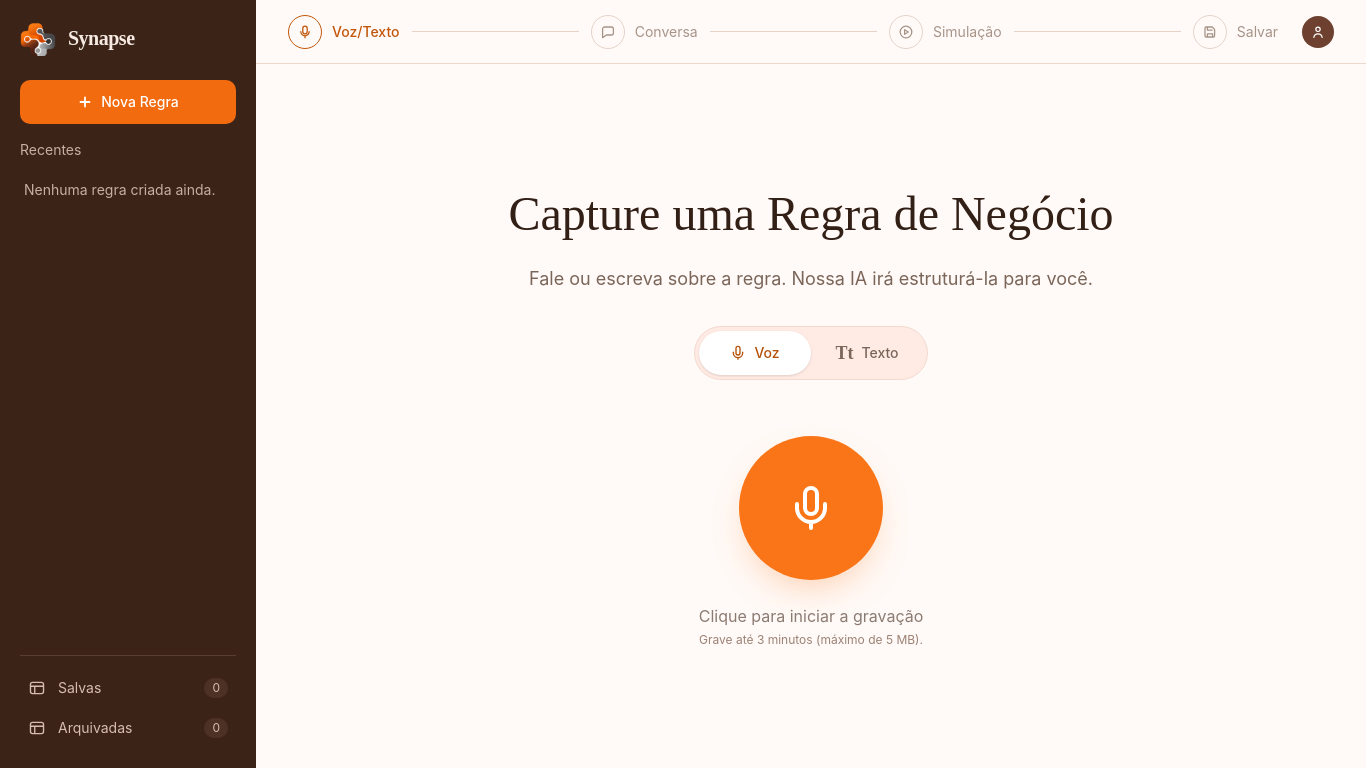
Scenario: entrada da regra › alterna texto e voz sem gravar ou enviar e conserva o texto apenas na tela
Expected: the button named "Iniciar gravação" is enabled, [739,436,883,580]
Expected: the list item "Voz/Texto" is shown, [288,14,400,48]
Click the button "Tt Texto" at coordinates (867, 353), box [811,331,923,375]
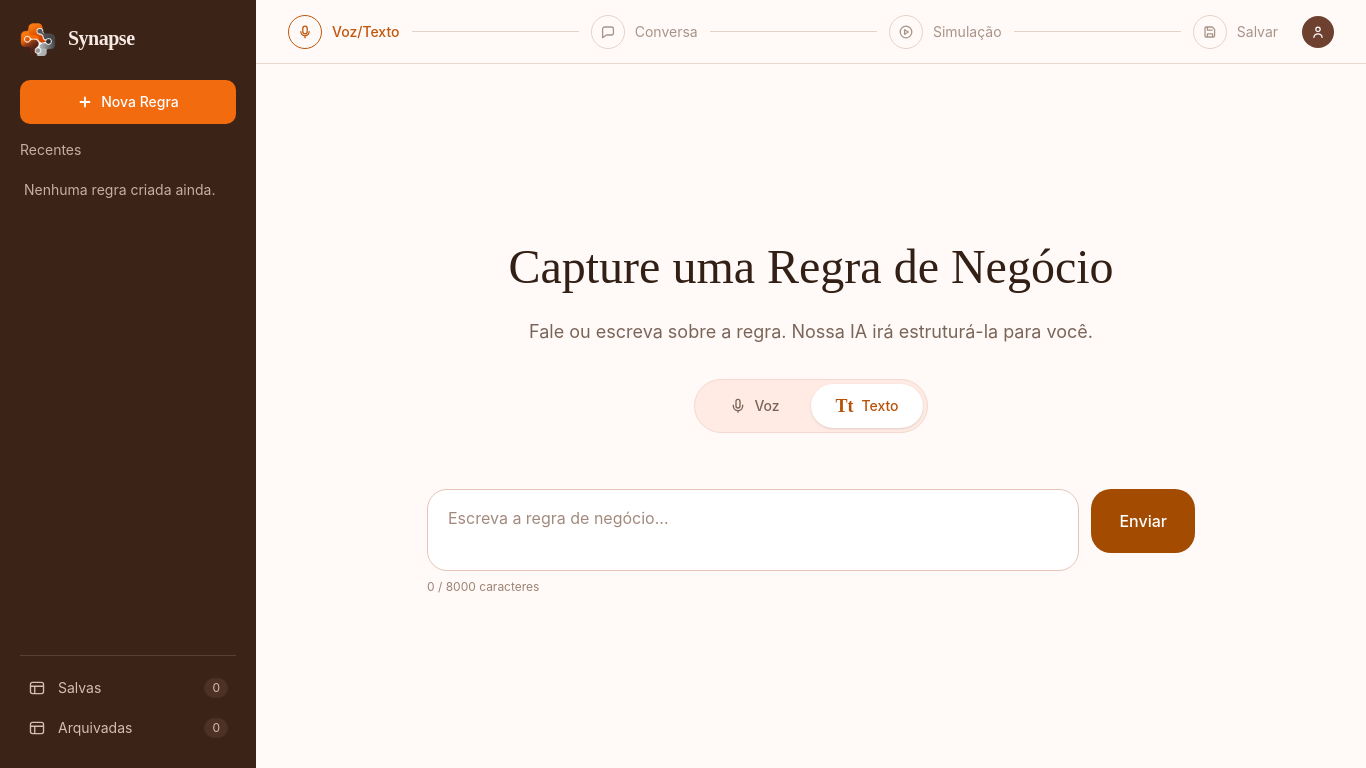
Type "Uma regra de exemplo" into the text box with placeholder "Escreva a regra de negócio..." at coordinates (753, 530), box [427,489,1080,571]
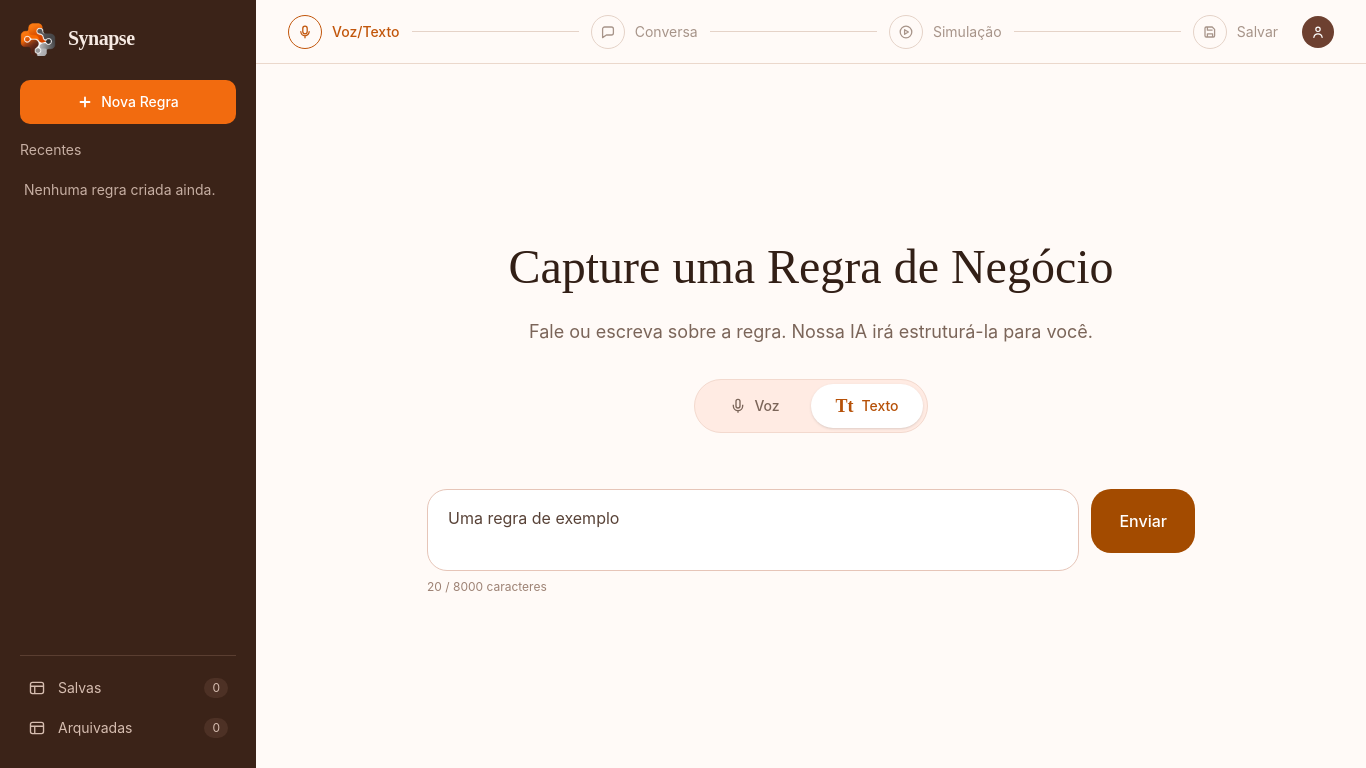
Expected: the button "Enviar" is enabled, [1092,489,1195,553]
Expected: the text "20 / 8000" is shown, [427,579,547,594]
Click the button "Voz" at coordinates (755, 406), box [699,384,811,428]
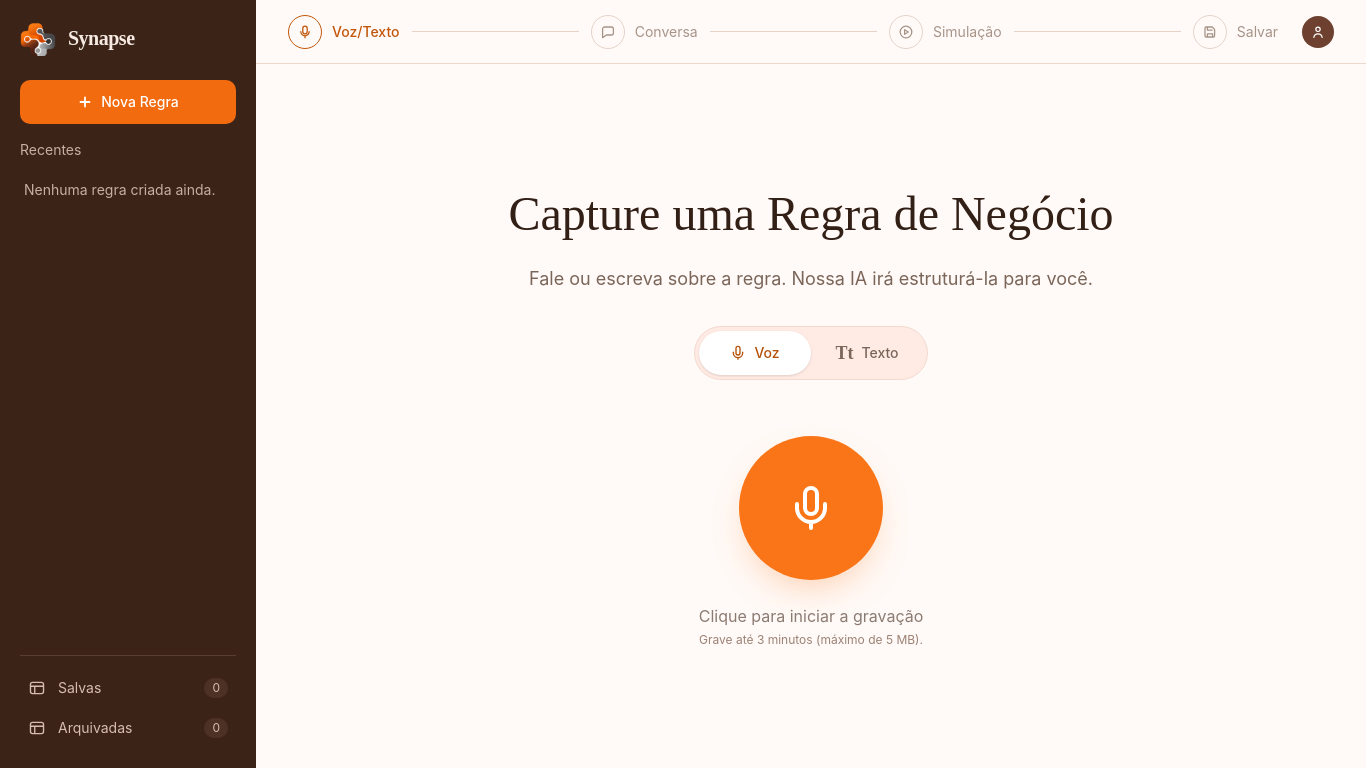
Click the button "Tt Texto" at coordinates (867, 353), box [811,331,923,375]
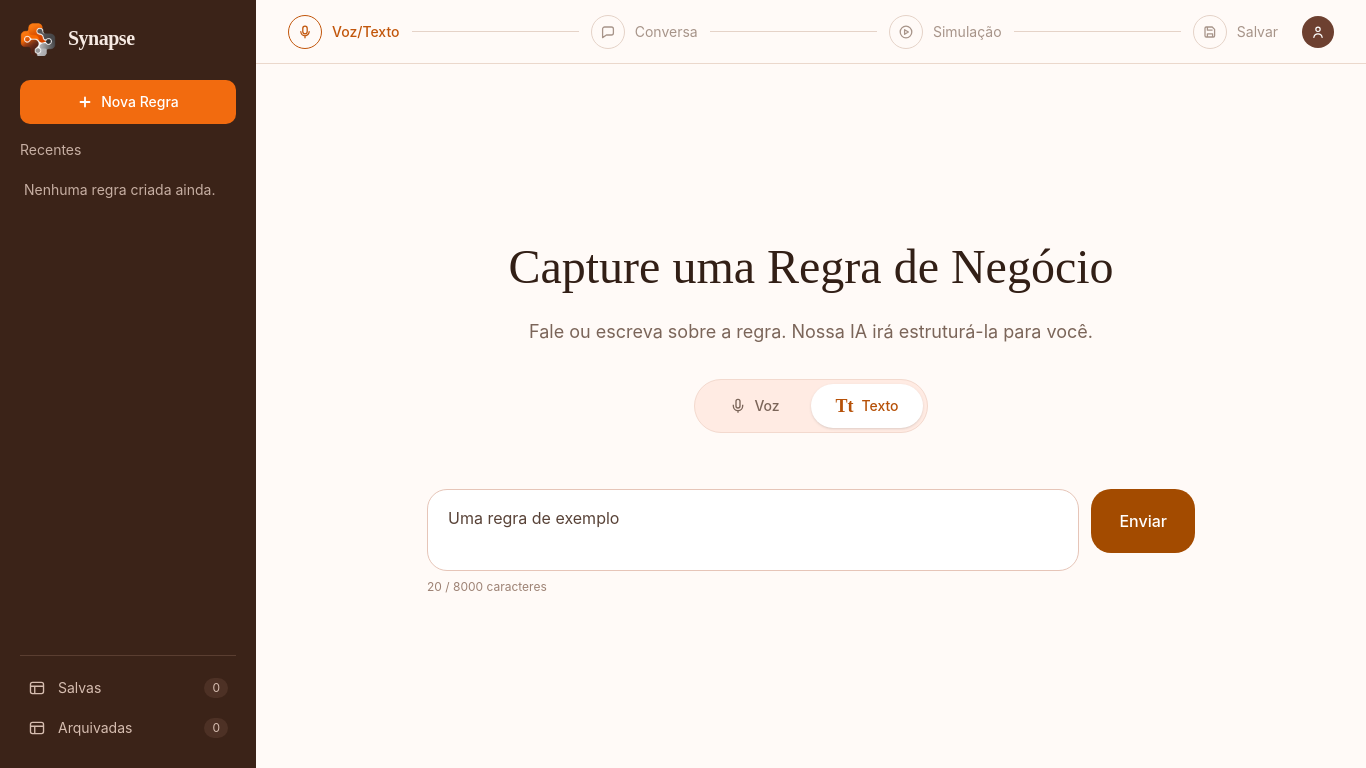
Expected: the text box holds "Uma regra de exemplo", [427,489,1080,571]
